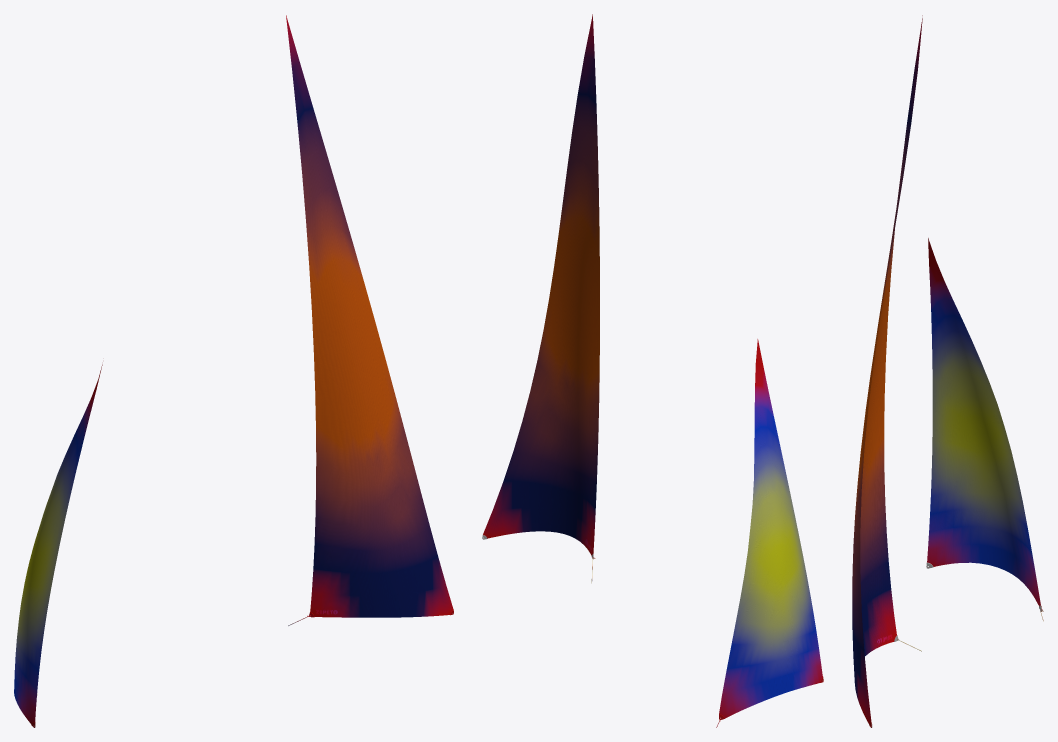
File: Ship_Sail.glb
3 views of the same model, side by side, from view 1: azimuth 30°, elevation 25°; view 2: azimuth 150°, elevation 25°; view 3: azimuth 270°, elevation 25° (orthographic). The views are drawn at different scales.
Parts seen in each view (by area): view 1: Ship_Sail; view 2: Ship_Sail; view 3: Ship_Sail.
Boxes of the visible parts, x1,y1,x2,y2 form: Ship_Sail: (14,15,453,727); Ship_Sail: (482,14,823,727); Ship_Sail: (852,15,1043,727).
Size of the model in its own units: 1222 by 2013 by 496.
Materials: 1 (1 with a texture image).
